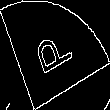P_SW: (31, 27, 79, 82)
